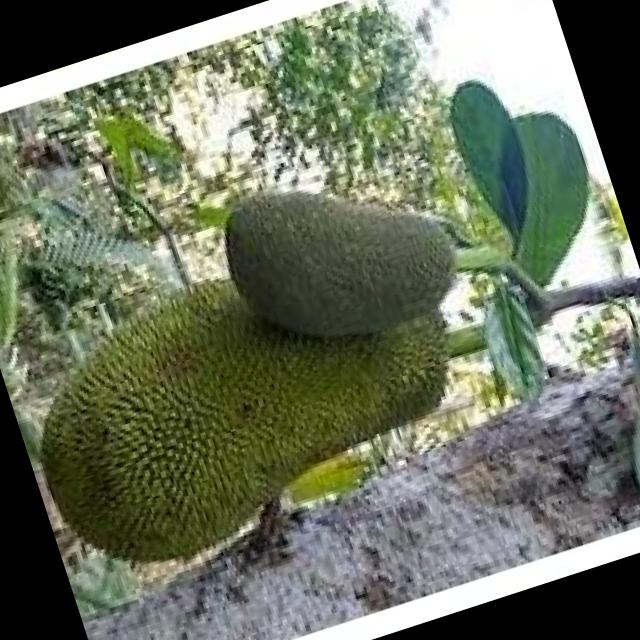Fruit: (0, 205, 442, 618), (177, 108, 540, 516)
